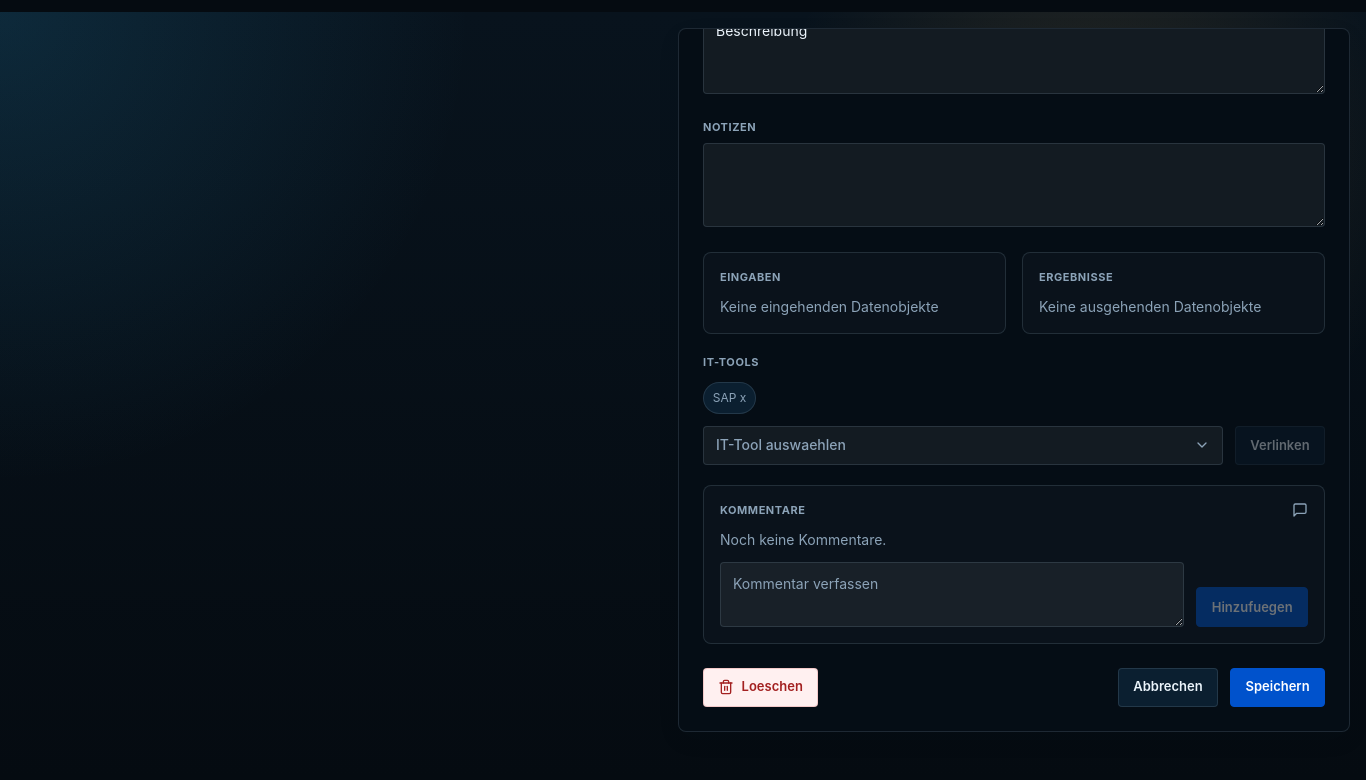
Scenario: ActivityDetailPopup › shows linked IT tools as chips and filters them from the selectable catalog
(page scrolled)
Expected: the button with test id "activity-tool-chip-tool-1" shows "SAP", [703,382,756,414]
Click the button with test id "activity-tool-select-trigger".
click(781, 445)  # box [703,426,1223,465]
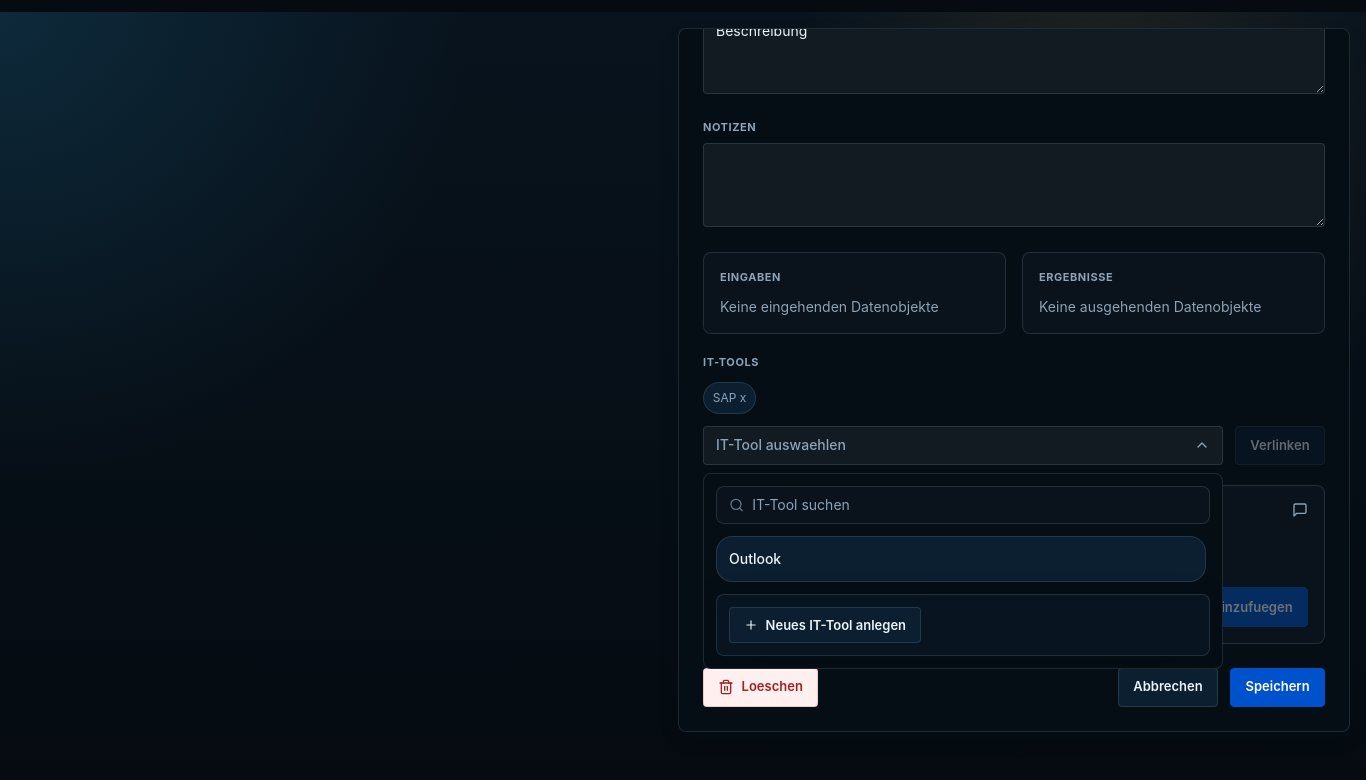
Now the button with test id "activity-tool-select-option-tool-2" reads "Outlook", box [716,536,1206,582]
